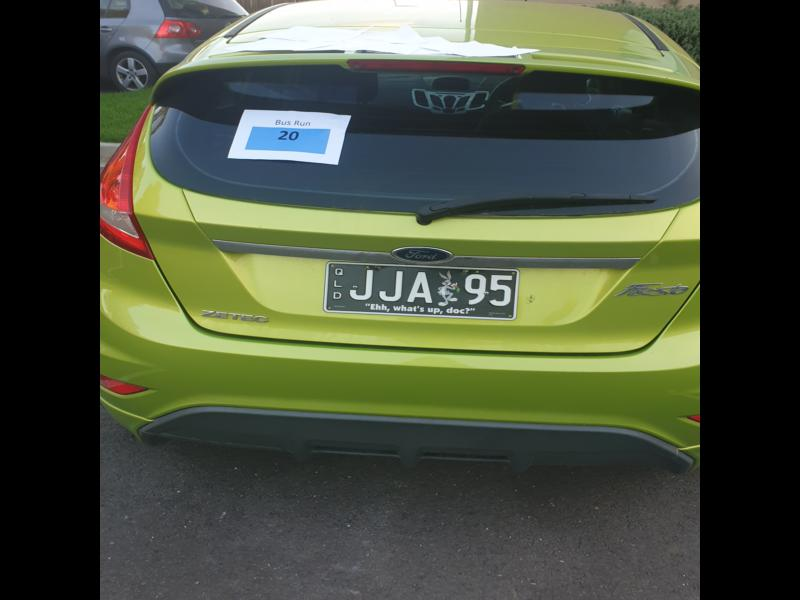BusRun: (246, 125, 330, 154)
PlateNo: (322, 260, 518, 319)
